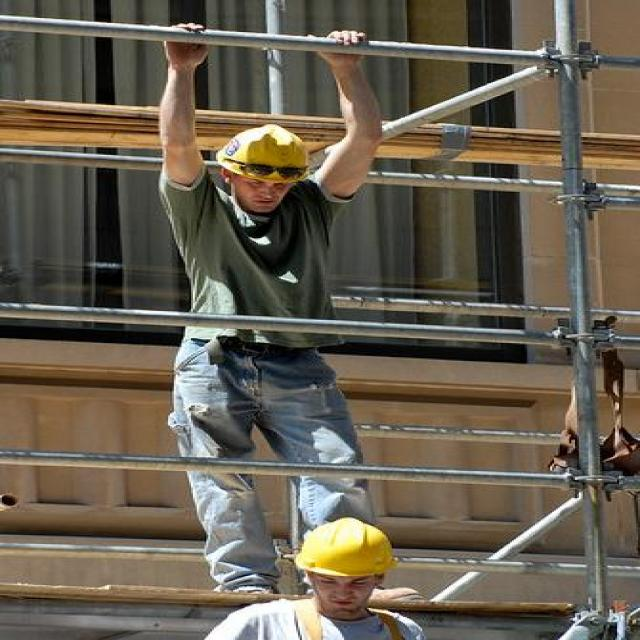Reflective-Jacket: (197, 598, 437, 640)
Safety-Helmet: (286, 516, 407, 581), (210, 118, 319, 183)
